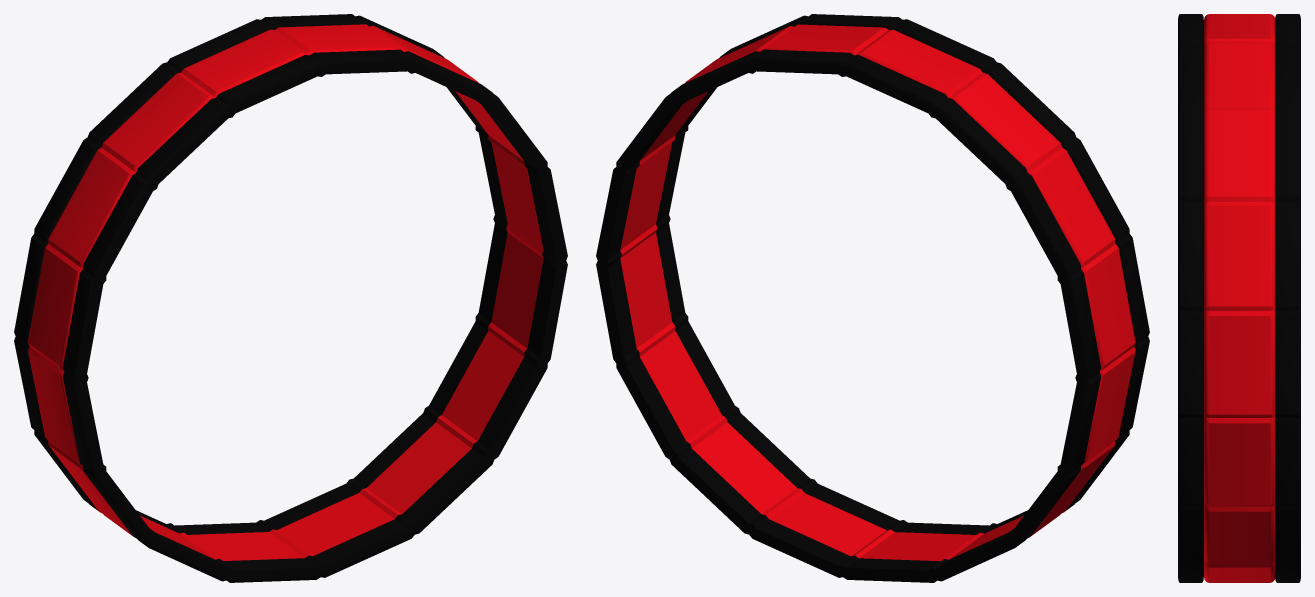
Rendered from Barcelet.fbx.
3 views of the same model, side by side, from view 1: azimuth 30°, elevation 25°; view 2: azimuth 150°, elevation 25°; view 3: azimuth 270°, elevation 25° (orthographic).
Visible parts, largest first — view 1: MiddleStrip, SideStrip2, SideStrip1; view 2: MiddleStrip, SideStrip1, SideStrip2; view 3: MiddleStrip, SideStrip1, SideStrip2.
Part boxes in pixels (x1=…): MiddleStrip: x1=28, y1=24, x2=543, y2=560; SideStrip2: x1=62, y1=49, x2=567, y2=582; SideStrip1: x1=14, y1=14, x2=507, y2=534; MiddleStrip: x1=620, y1=24, x2=1135, y2=561; SideStrip1: x1=596, y1=49, x2=1101, y2=582; SideStrip2: x1=656, y1=14, x2=1149, y2=534; MiddleStrip: x1=1204, y1=14, x2=1275, y2=582; SideStrip1: x1=1275, y1=14, x2=1300, y2=582; SideStrip2: x1=1178, y1=14, x2=1203, y2=582.
Size of the model in its own units: 1.99 by 1.99 by 0.4302.
